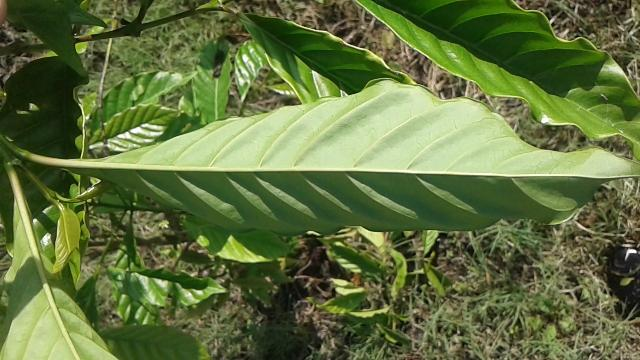healthy: (68, 76, 640, 238)
